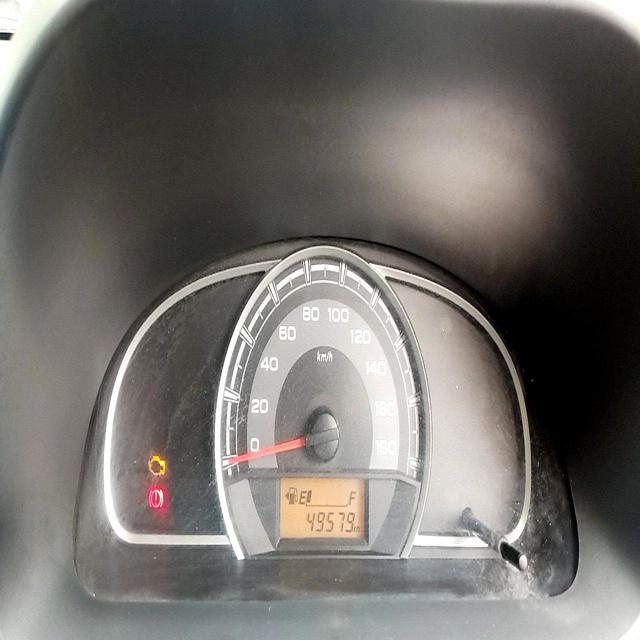odometer: (305, 507, 356, 535)
